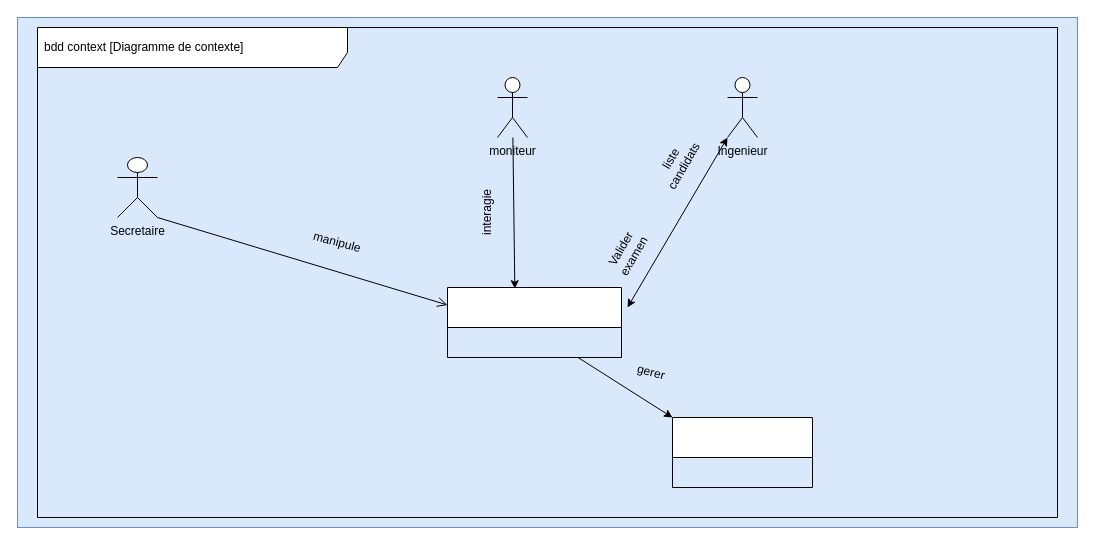
Some shapes in this 1095 by 545 pixel diagram are drawn without their labels. The shapes that lost their labels are listed below. From the top down, each one's centre as x and y in pixels, then its label:
point 534,322: <<System>> system gestion auto ecole
point 742,452: <<externe>> Vouturs
